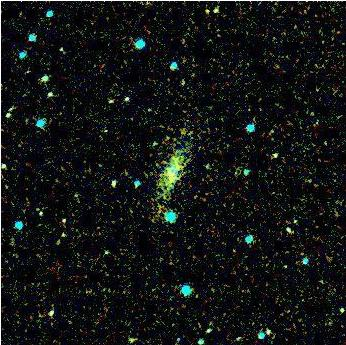star: (259, 142, 289, 172)
